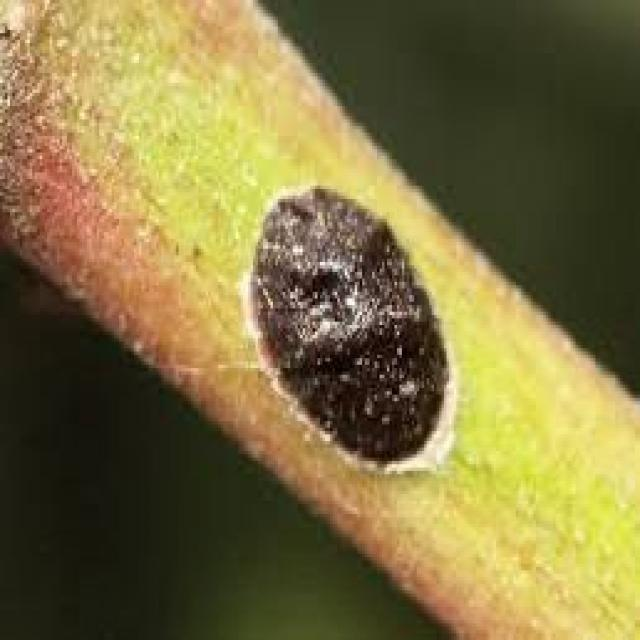Black Scale: (243, 186, 454, 471)
